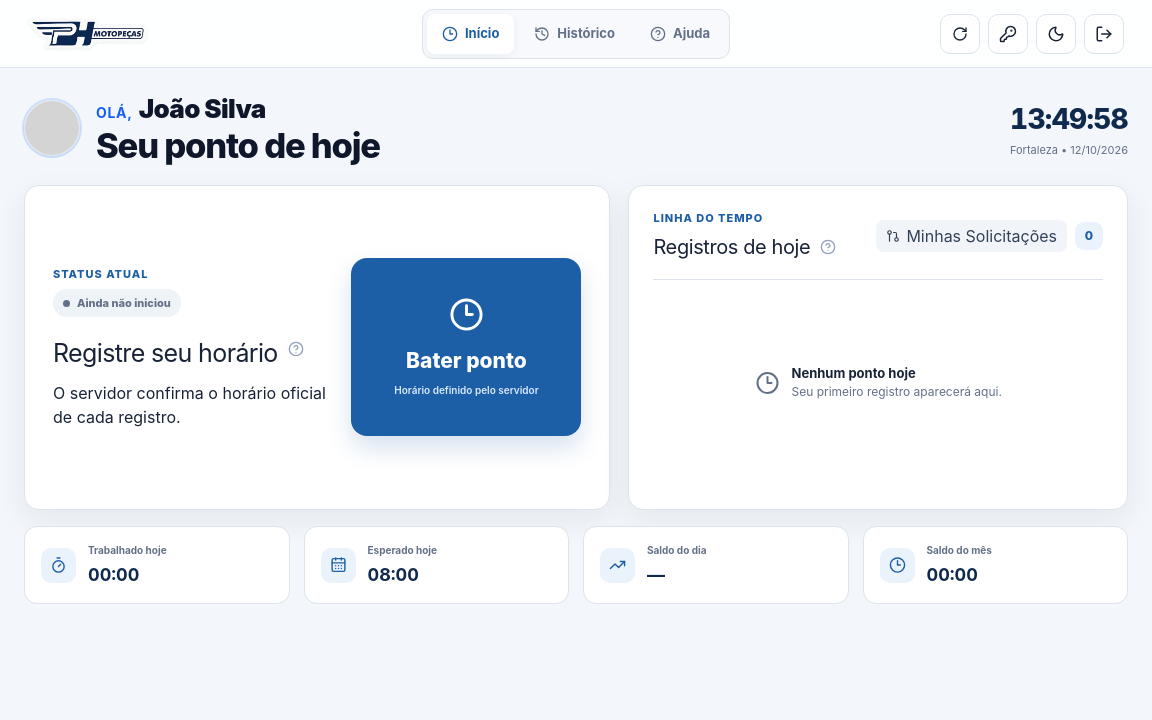
PH-Ponto employee application › reuses the same idempotency key after an unknown network outcome
The image size is (1152, 720).
Click the button "Bater ponto" at point(466, 347), box [351, 258, 581, 436]
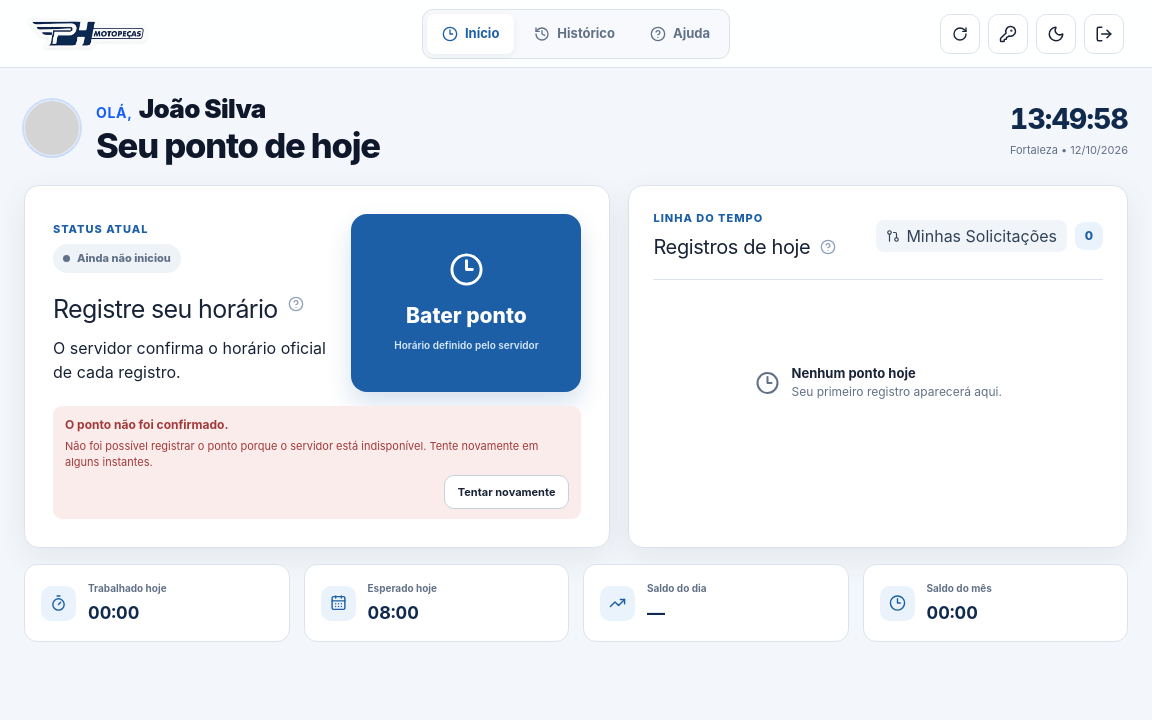
Check: the text "O ponto não foi confirmado." is shown, box [65, 417, 228, 432]
Check: the message shows "Não foi possível registrar o ponto porque o servidor está indisponível.", box [65, 439, 538, 469]
Click the button "Tentar novamente" at point(507, 492), box [444, 475, 569, 509]
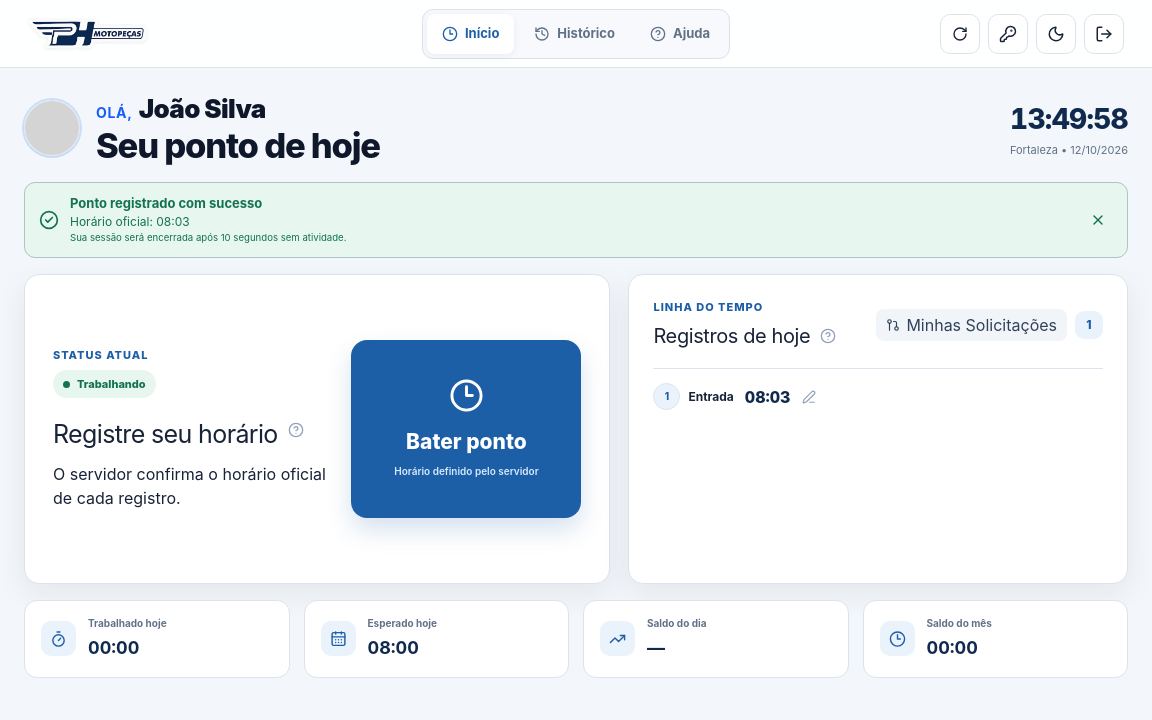
Check: the text "Ponto registrado com sucesso" is shown, box [70, 195, 262, 211]
